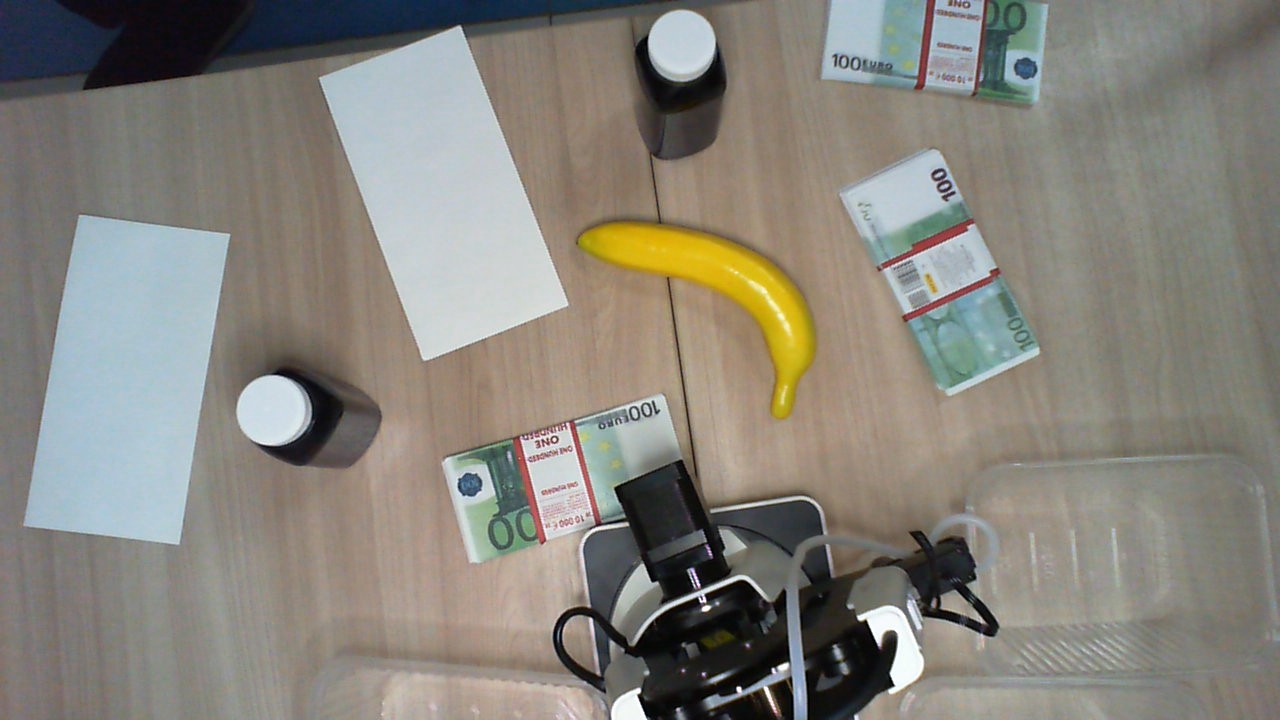banana: (573, 214, 814, 419)
bottle: (219, 363, 323, 465), (635, 10, 728, 105)
convert: (317, 20, 569, 363), (23, 218, 234, 542)
money: (836, 146, 1045, 400), (439, 395, 697, 575), (816, 1, 1045, 105)
